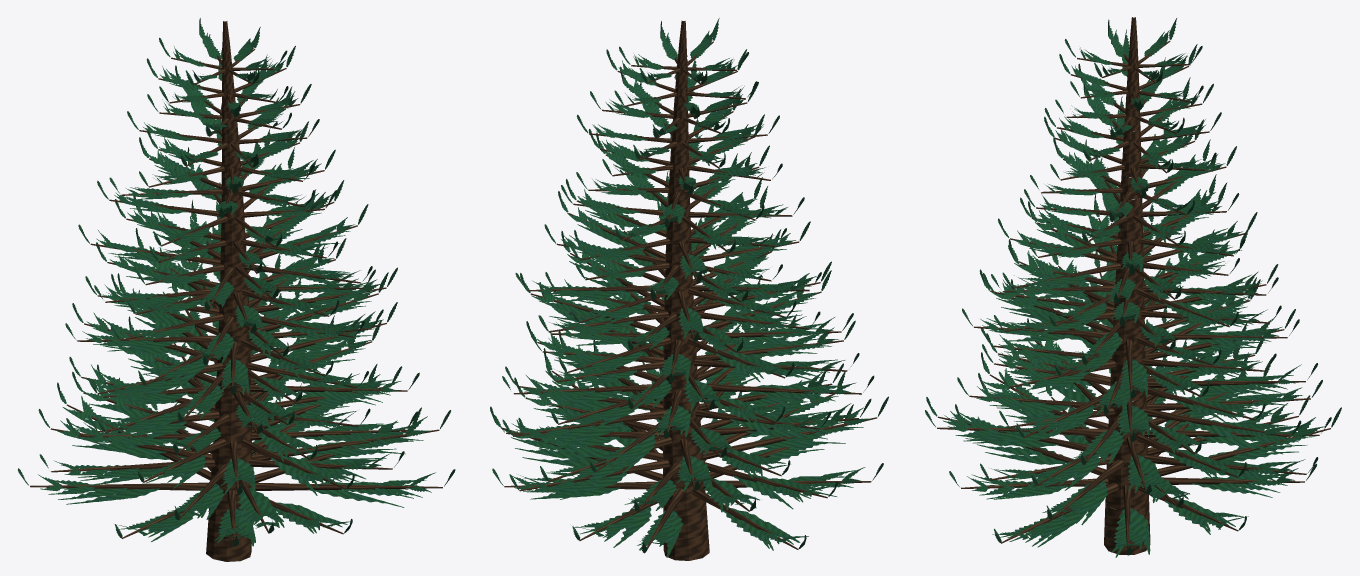
The model's file is windfall-mountain-conifer.glb.
3 views of the same model, side by side, from view 1: azimuth 30°, elevation 25°; view 2: azimuth 150°, elevation 25°; view 3: azimuth 270°, elevation 25° (orthographic).
Parts seen in each view (by area): view 1: needles, bark; view 2: needles, bark; view 3: needles, bark.
Part boxes in pixels (left/top/right/bottom): needles: left=18, top=18, right=455, bottom=546; bark: left=30, top=21, right=442, bottom=561; needles: left=490, top=18, right=888, bottom=557; bark: left=501, top=20, right=877, bottom=560; needles: left=925, top=18, right=1341, bottom=557; bark: left=937, top=17, right=1330, bottom=554.
Bounding box in the file's own units: 5.7 × 7.81 × 5.68.
Materials: 2 (2 with a texture image).
